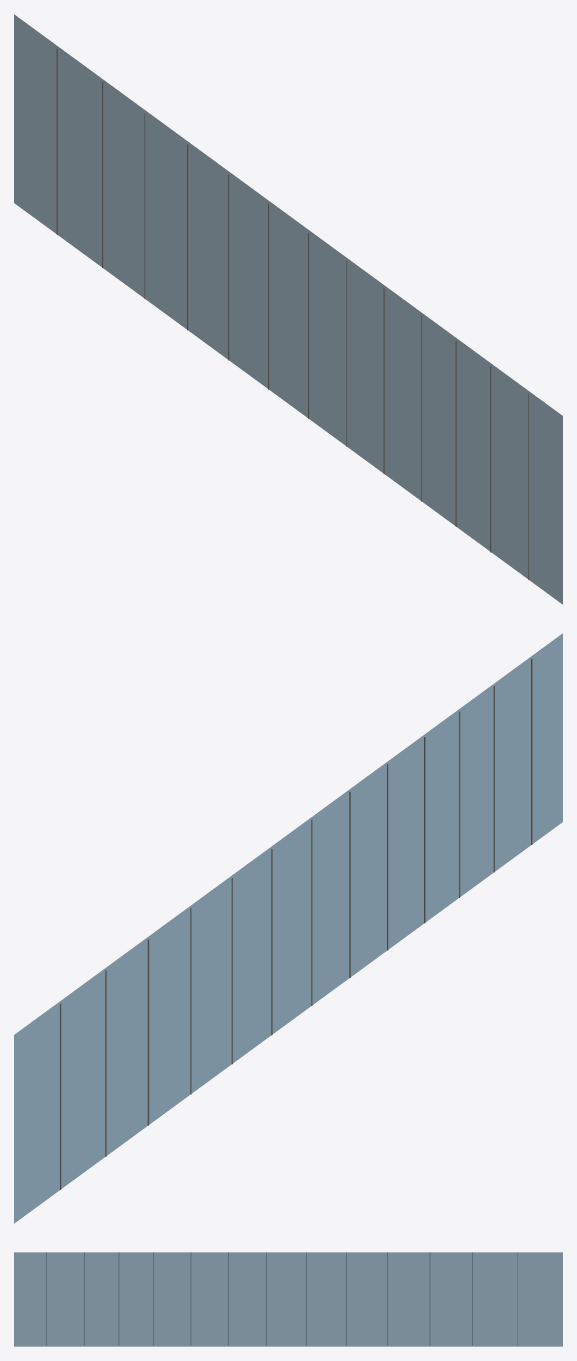
File: GlassWall.FBX
3 views of the same model, one above another, from view 1: azimuth 30°, elevation 25°; view 2: azimuth 150°, elevation 25°; view 3: azimuth 270°, elevation 25° (orthographic). The views are drawn at different scales.
Visible parts, largest first — view 1: Plane001; view 2: Plane001; view 3: Plane001.
Part boxes in pixels (x1,y1,x2,y2): Plane001: (14,14,562,604); Plane001: (14,633,562,1223); Plane001: (14,1252,562,1346).
Size of the model in its own units: 6.02 by 532 by 2801.
